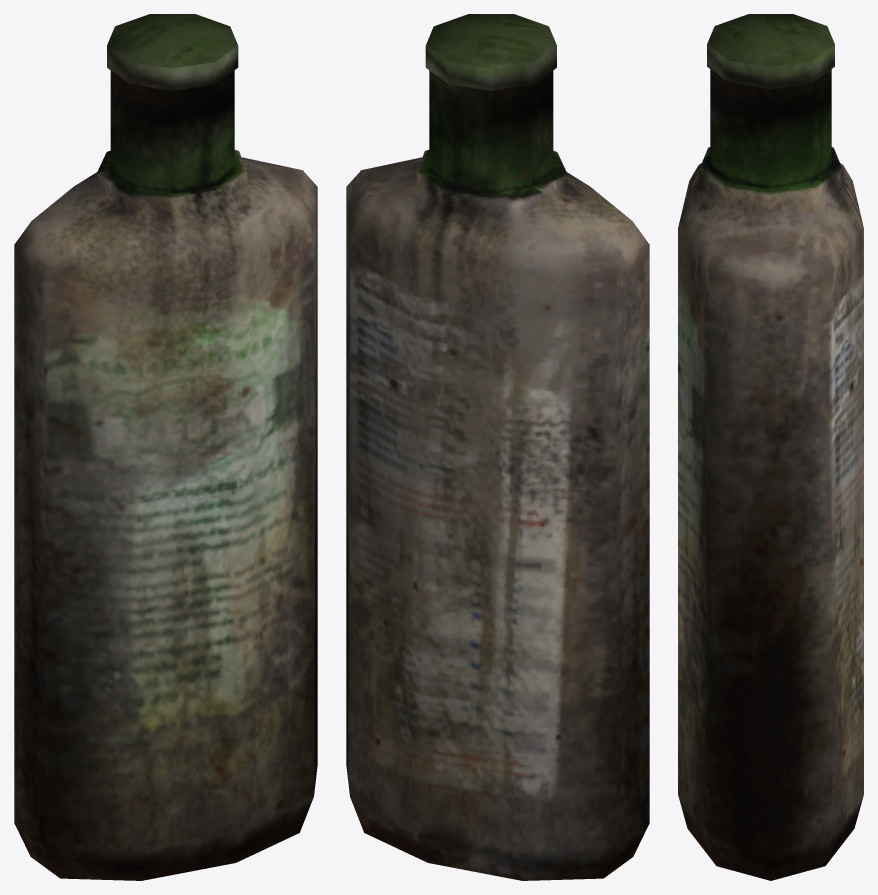
Rendered from bathRoom07.FBX.
3 renders of one model, left to right at view 1: azimuth 30°, elevation 25°; view 2: azimuth 150°, elevation 25°; view 3: azimuth 270°, elevation 25°, orthographic. The views are drawn at different scales.
Parts seen in each view (by area): view 1: SM_Bathroom07; view 2: SM_Bathroom07; view 3: SM_Bathroom07.
Part boxes in pixels (x1,y1,x2,y2): SM_Bathroom07: (14,14,317,880); SM_Bathroom07: (346,14,649,880); SM_Bathroom07: (678,14,863,880).
Size of the model in its own units: 9.42 by 25.28 by 5.41.
1 material, 1 textured.
